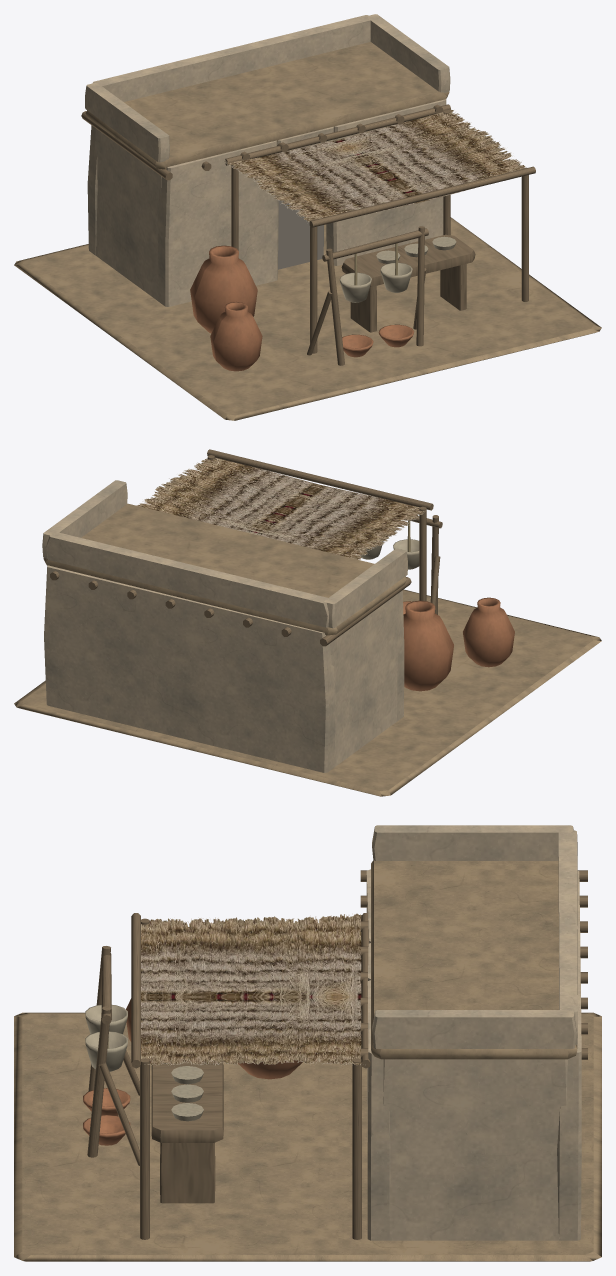
Rendered from dairyStore.glb.
3 renders of one model, top to bottom at view 1: azimuth 30°, elevation 25°; view 2: azimuth 150°, elevation 25°; view 3: azimuth 270°, elevation 25°, orthographic. The views are drawn at different scales.
Visible parts, largest first — view 1: original-dairyStore-alluvial-earth, original-dairyStore-warm-clay-plaster, original-dairyStore-laid-reed-thatch, original-dairyStore-worn-timber, original-dairyStore-fired-pottery, original-dairyStore-woven-linen, original-dairyStore-game-door-shadow; view 2: original-dairyStore-warm-clay-plaster, original-dairyStore-alluvial-earth, original-dairyStore-laid-reed-thatch, original-dairyStore-fired-pottery, original-dairyStore-worn-timber, original-dairyStore-woven-linen; view 3: original-dairyStore-alluvial-earth, original-dairyStore-warm-clay-plaster, original-dairyStore-laid-reed-thatch, original-dairyStore-worn-timber, original-dairyStore-woven-linen, original-dairyStore-fired-pottery.
Part boxes in pixels (bbox=[...]): original-dairyStore-alluvial-earth: bbox=[14, 42, 601, 420]; original-dairyStore-warm-clay-plaster: bbox=[85, 14, 450, 306]; original-dairyStore-laid-reed-thatch: bbox=[224, 109, 525, 222]; original-dairyStore-worn-timber: bbox=[81, 104, 535, 365]; original-dairyStore-fired-pottery: bbox=[190, 245, 414, 371]; original-dairyStore-woven-linen: bbox=[339, 236, 456, 302]; original-dairyStore-game-door-shadow: bbox=[278, 200, 323, 269]; original-dairyStore-warm-clay-plaster: bbox=[42, 480, 407, 772]; original-dairyStore-alluvial-earth: bbox=[14, 503, 601, 796]; original-dairyStore-laid-reed-thatch: bbox=[136, 457, 426, 559]; original-dairyStore-fired-pottery: bbox=[403, 597, 514, 691]; original-dairyStore-worn-timber: bbox=[50, 449, 442, 646]; original-dairyStore-woven-linen: bbox=[358, 539, 419, 569]; original-dairyStore-alluvial-earth: bbox=[14, 860, 601, 1261]; original-dairyStore-warm-clay-plaster: bbox=[366, 825, 581, 1240]; original-dairyStore-laid-reed-thatch: bbox=[141, 913, 365, 1065]; original-dairyStore-worn-timber: bbox=[87, 870, 587, 1239]; original-dairyStore-woven-linen: bbox=[85, 1004, 203, 1121]; original-dairyStore-fired-pottery: bbox=[83, 998, 302, 1145].
Size of the model in its own units: 5.37 by 2.34 by 5.37.
9 materials, 7 textured.
